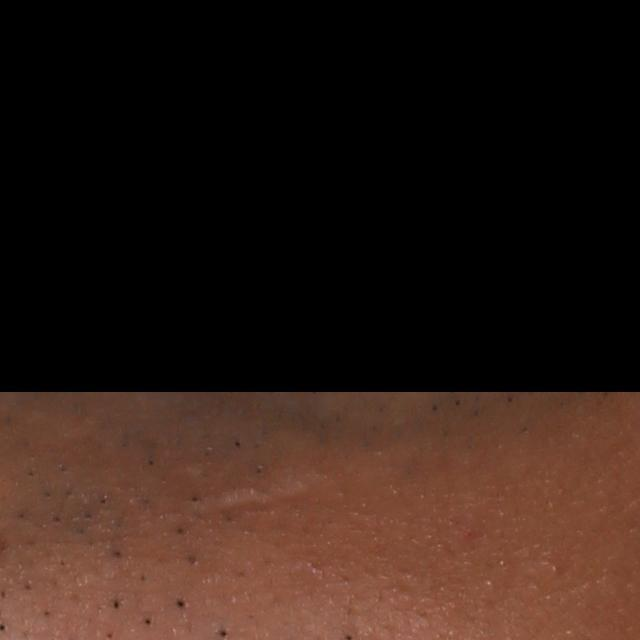hypertrophic_scar: (201, 476, 314, 523)
